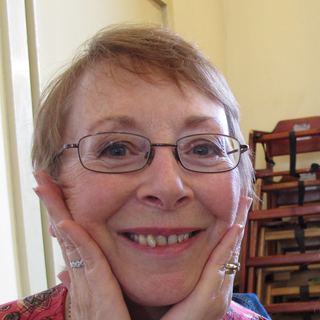eye: (95, 139, 141, 164), (183, 141, 227, 164)
